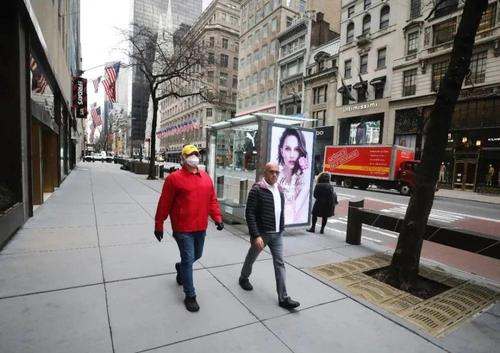mask: (182, 144, 201, 169)
